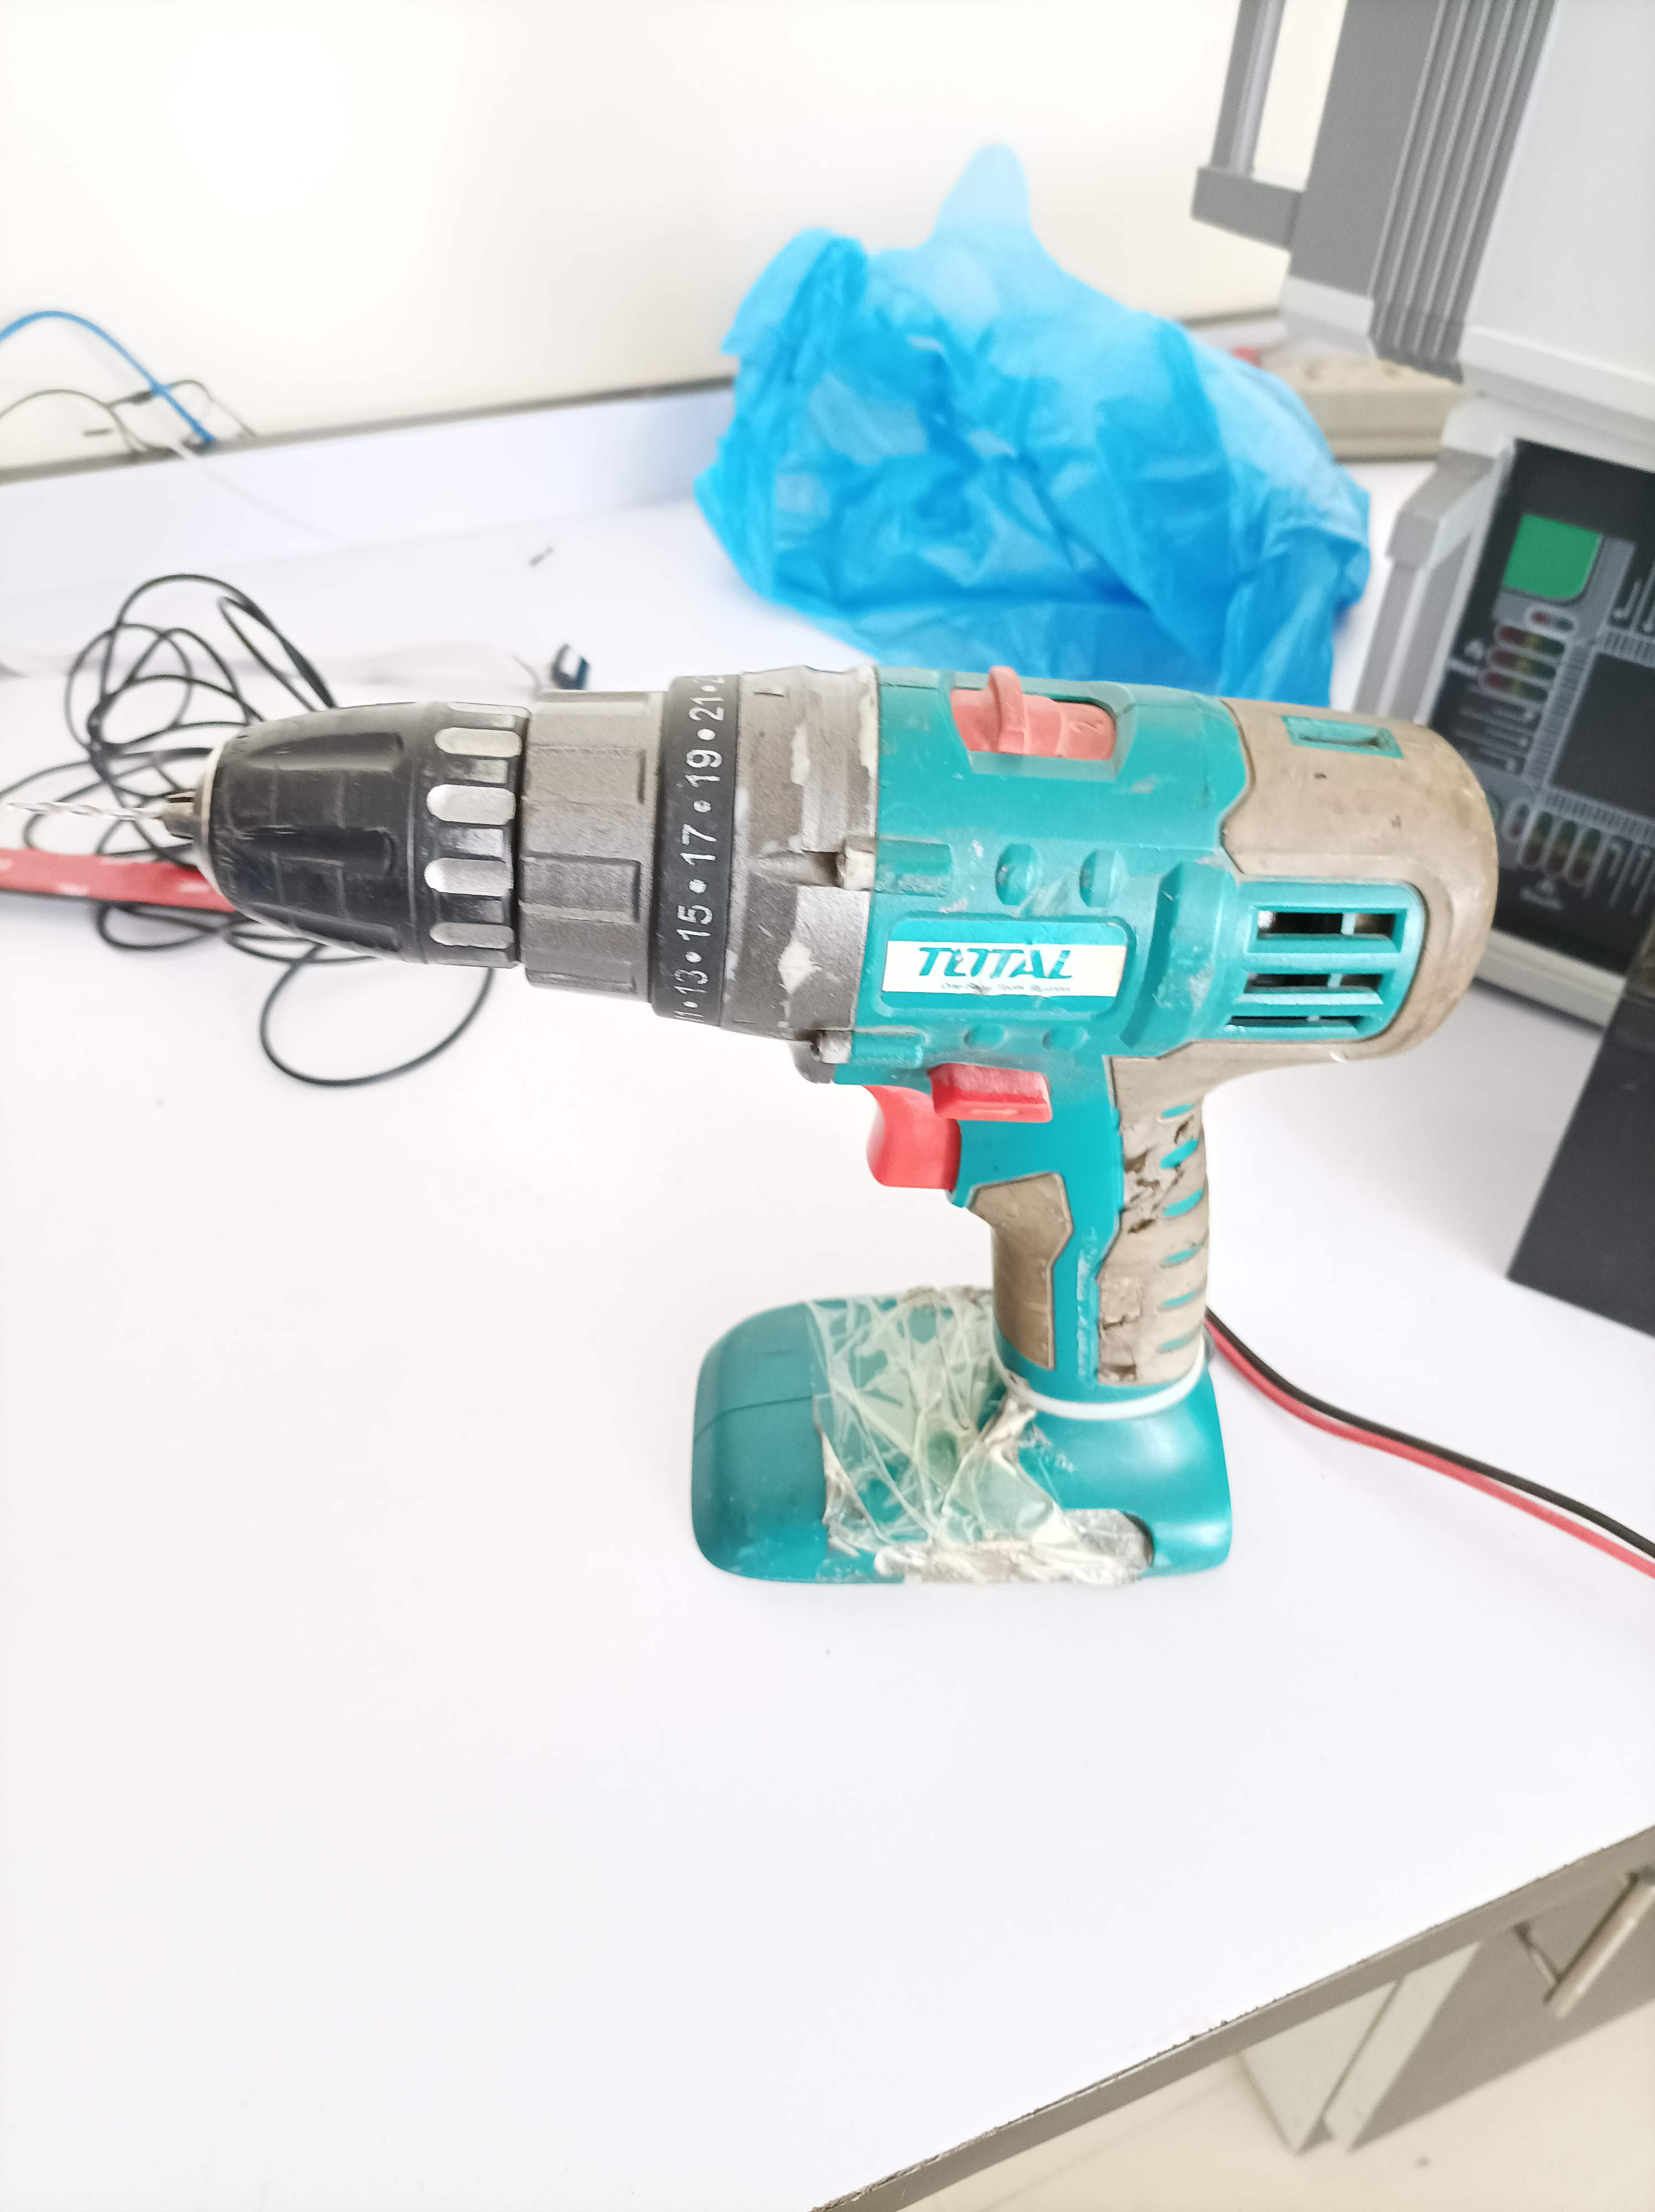driller: (179, 652, 1509, 1613)
